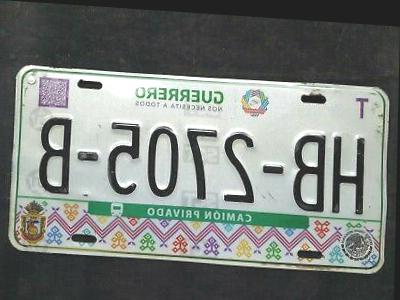License_Plate: (13, 60, 386, 274)
